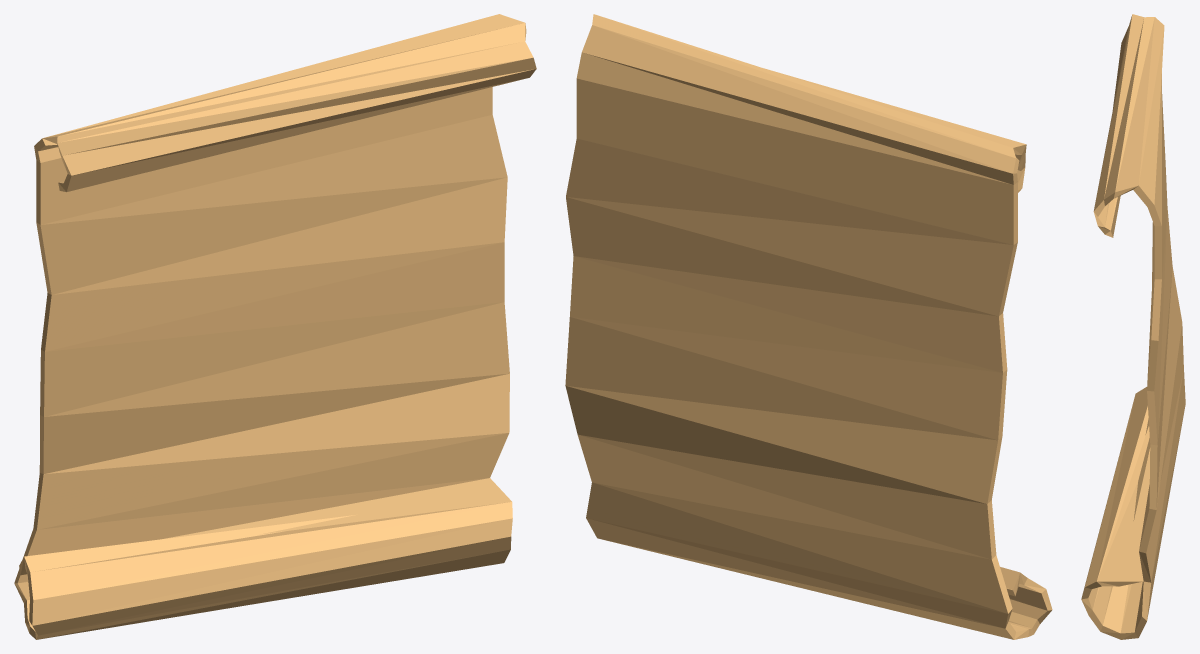
File: Scroll.glb
3 views of the same model, side by side, from view 1: azimuth 30°, elevation 25°; view 2: azimuth 150°, elevation 25°; view 3: azimuth 270°, elevation 25° (orthographic). The views are drawn at different scales.
Parts seen in each view (by area): view 1: group69953592; view 2: group69953592; view 3: group69953592.
Part boxes in pixels (x1,y1,x2,y2): group69953592: (14, 14, 536, 639); group69953592: (565, 14, 1052, 639); group69953592: (1081, 14, 1185, 639).
Size of the model in its own units: 0.6595 by 0.6889 by 0.1422.
